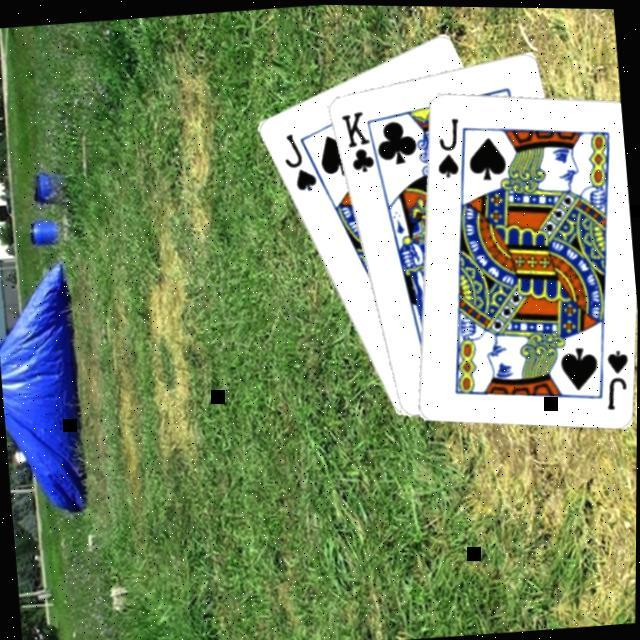JS: (276, 127, 320, 196), (428, 113, 464, 180), (598, 344, 634, 410)
KC: (336, 106, 384, 180)
